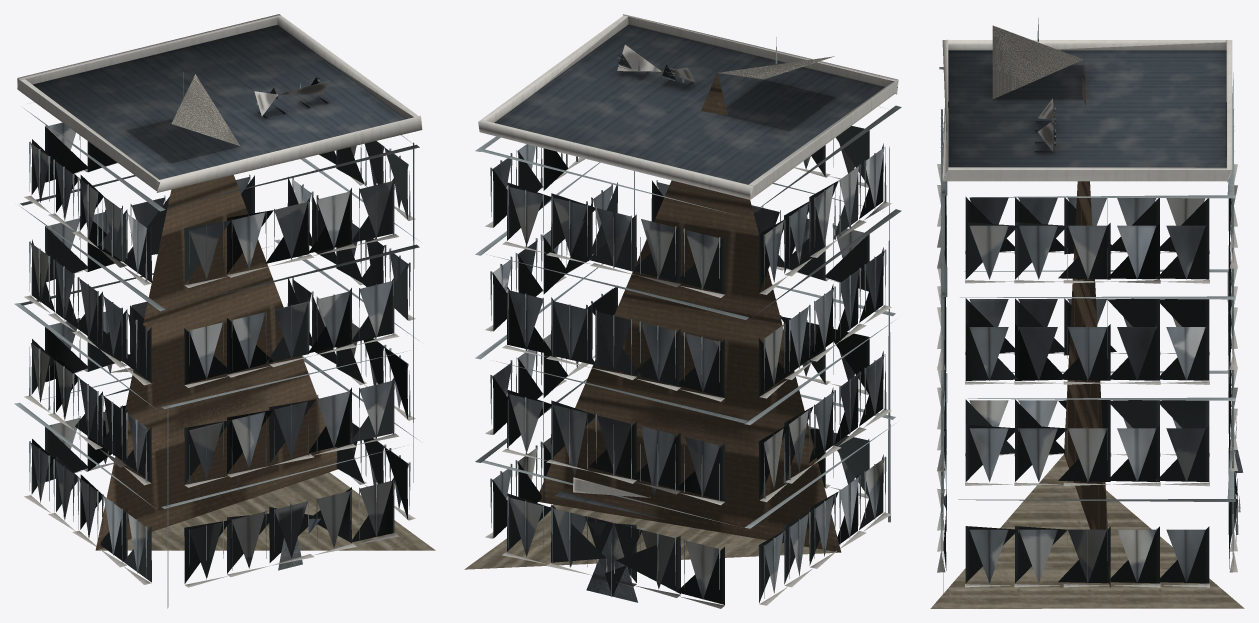
The model's file is office_003.lod2.obj.
3 views of the same model, side by side, from view 1: azimuth 30°, elevation 25°; view 2: azimuth 150°, elevation 25°; view 3: azimuth 270°, elevation 25° (orthographic). The views are drawn at different scales.
Parts seen in each view (by area): view 1: office_003; view 2: office_003; view 3: office_003.
Boxes of the visible parts, <box> form: office_003: <box>14,14,435,608</box>; office_003: <box>464,14,901,608</box>; office_003: <box>930,18,1244,608</box>.
Bounding box in the file's own units: 9.1 × 15.5 × 8.9.
Materials: 1 (1 with a texture image).
